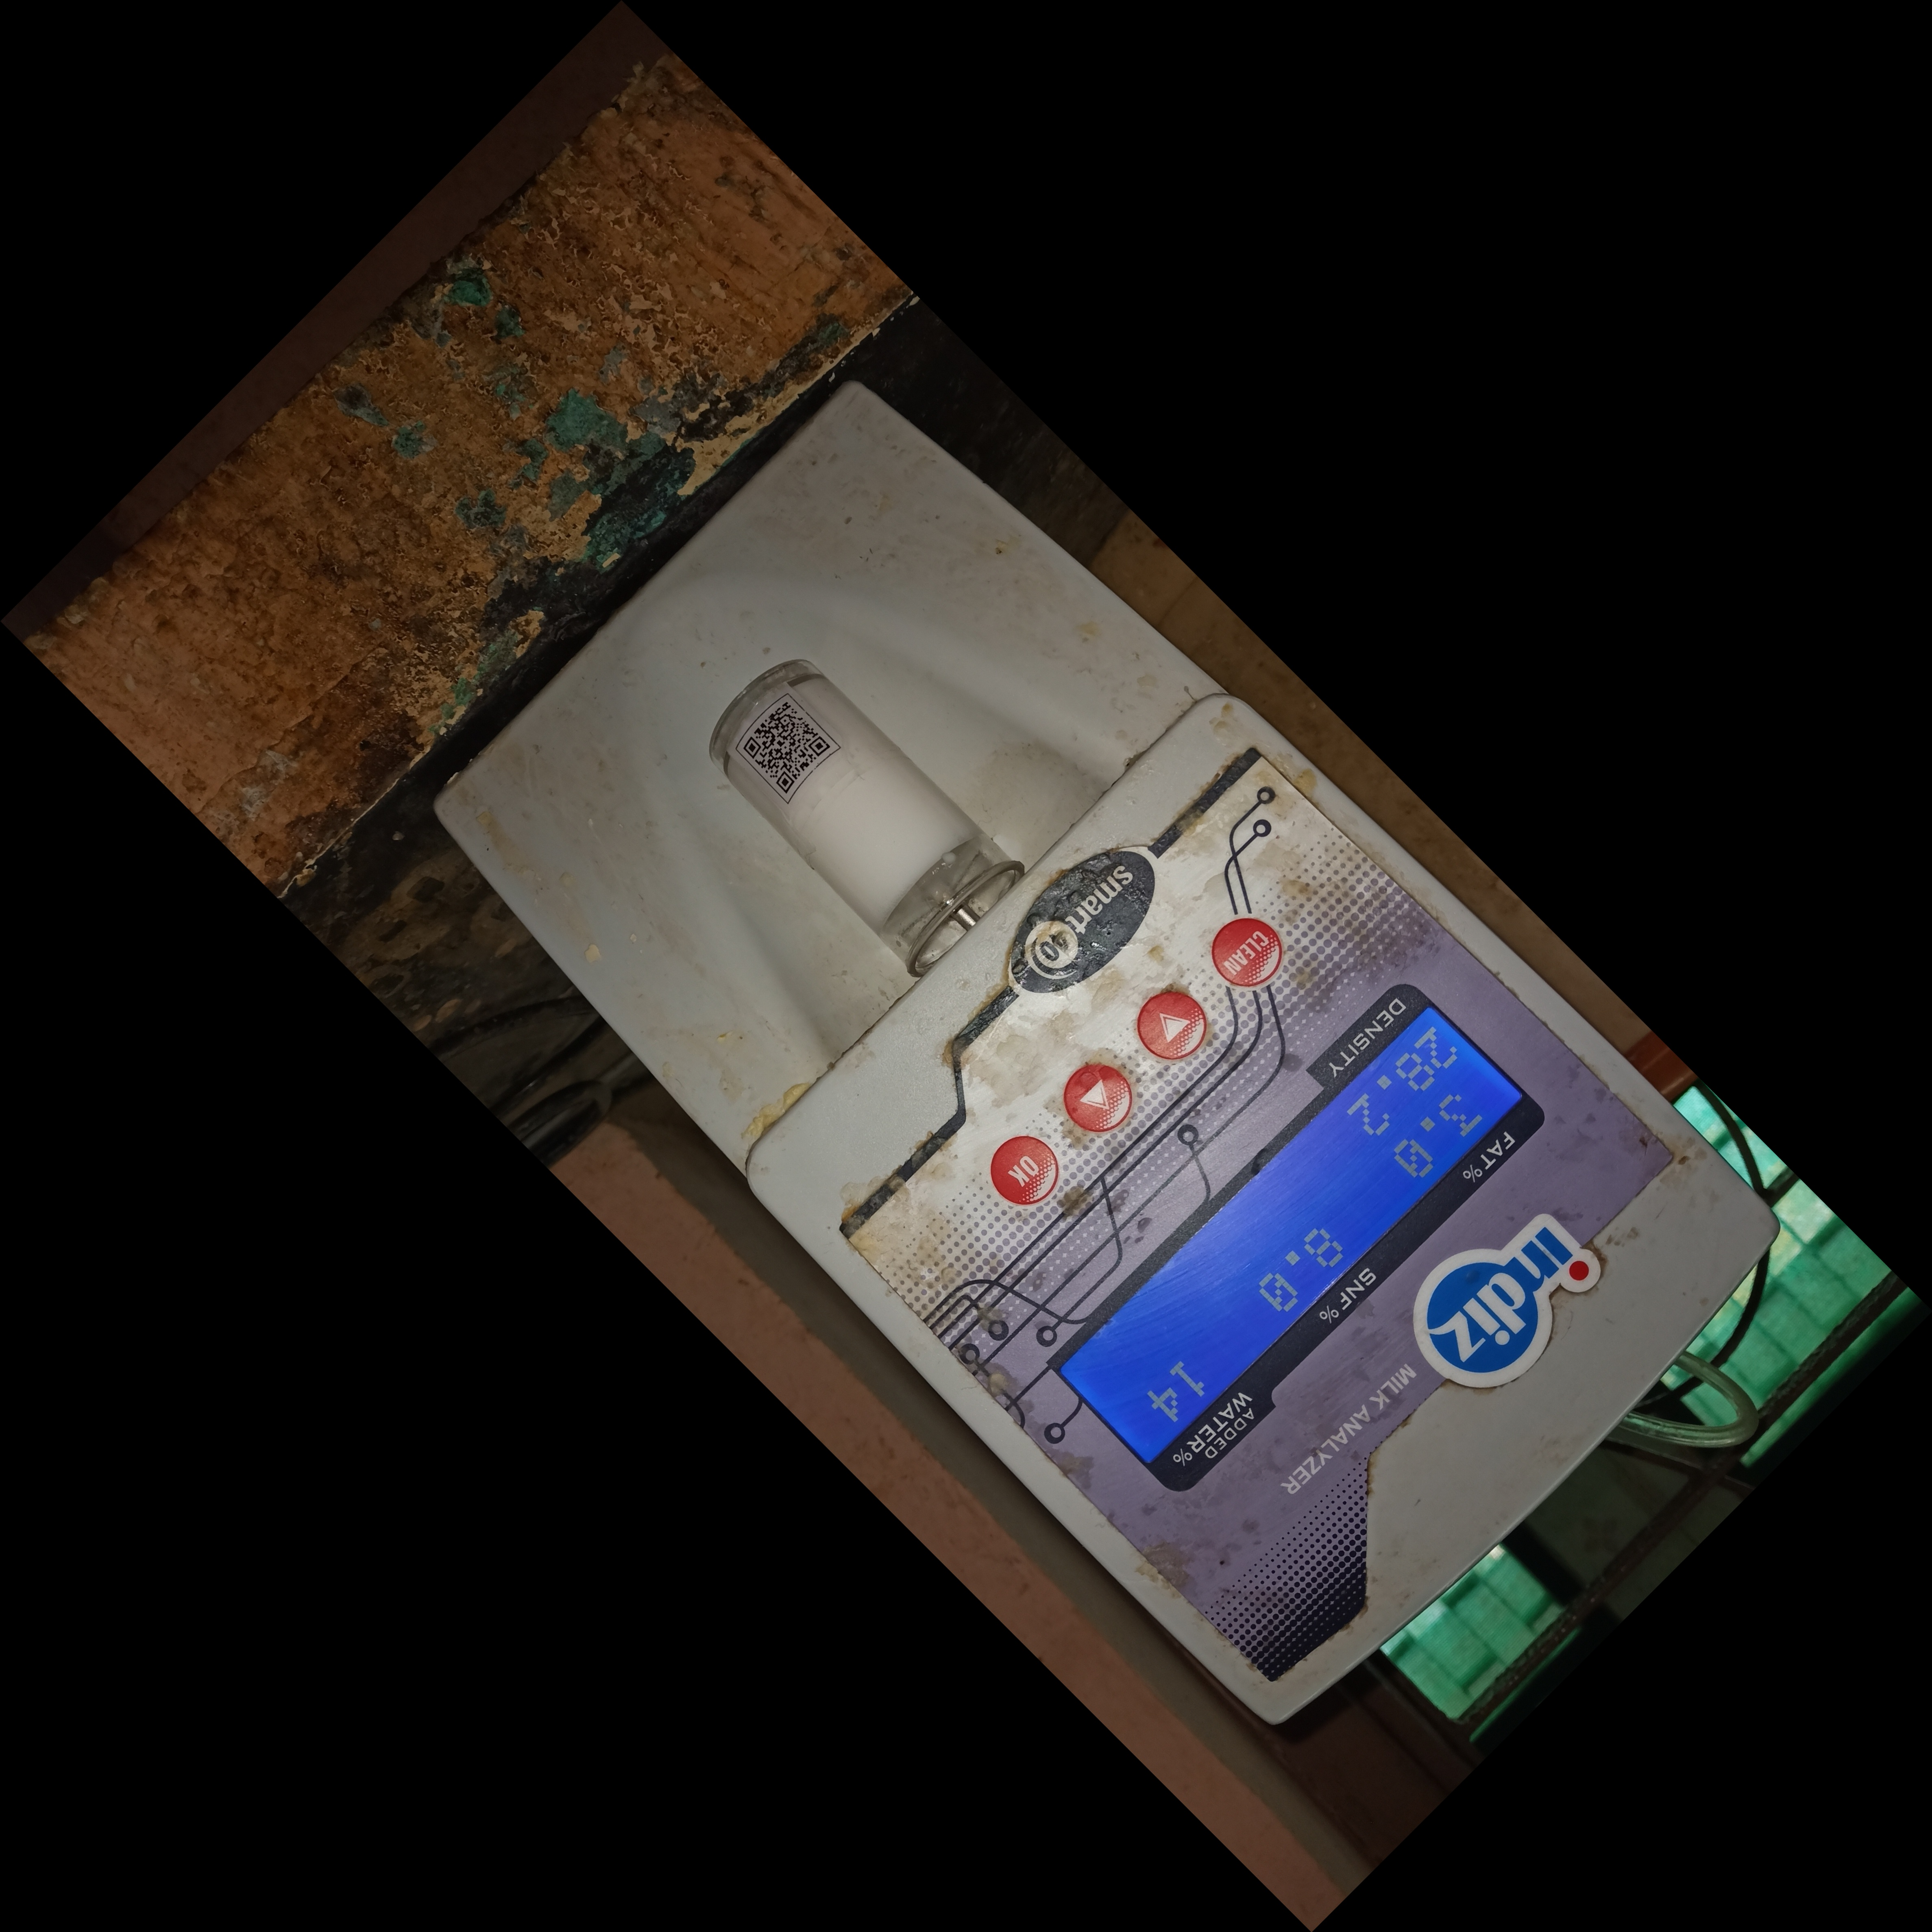lcd: (1005, 957, 1543, 1488)
qr: (717, 665, 867, 812)
